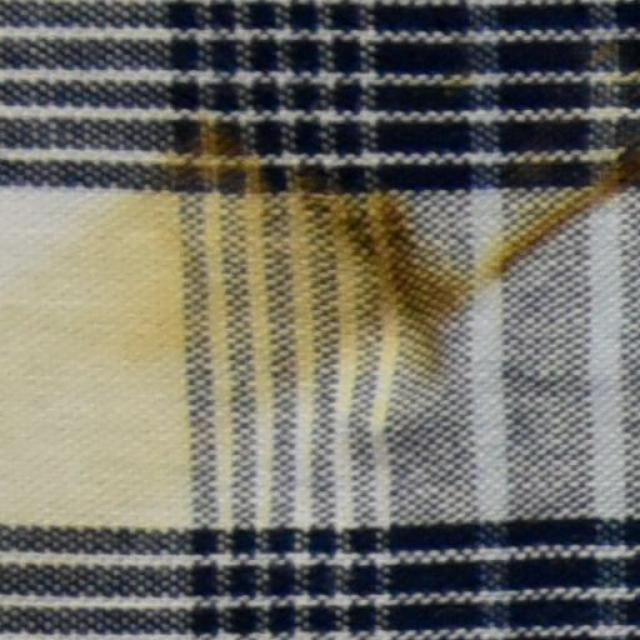Stain: (5, 126, 456, 562), (482, 135, 631, 279)
